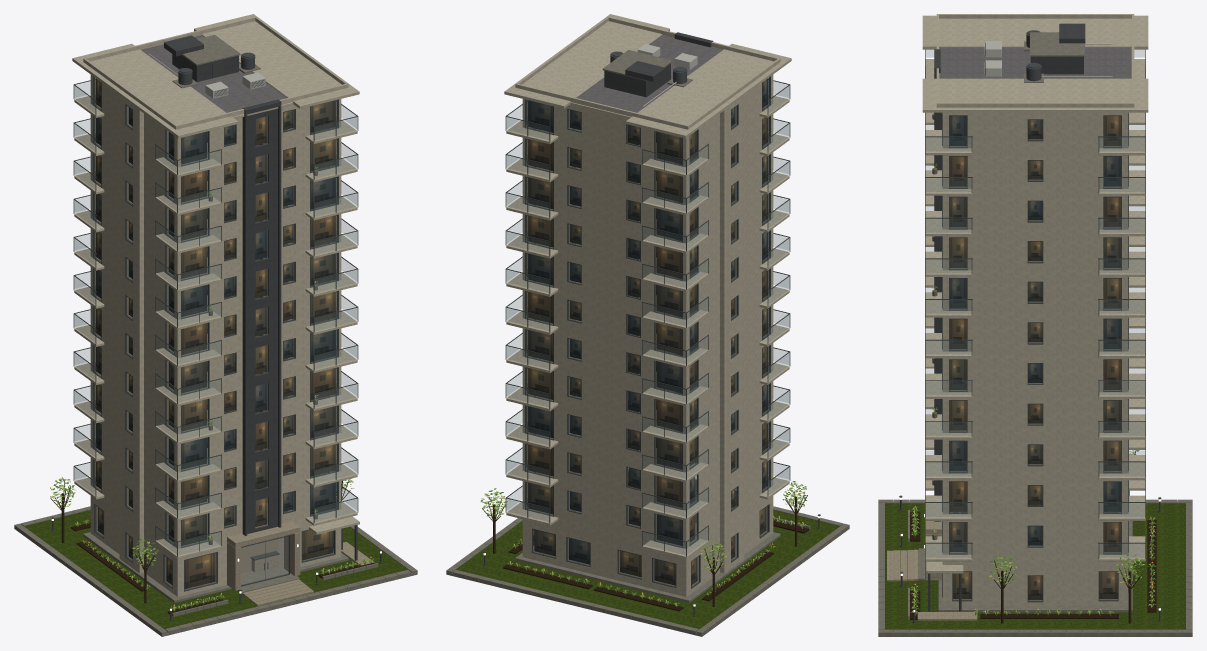
The model's file is torre_residencial.fbx.
The picture shows the model from 3 angles, left to right: view 1: azimuth 30°, elevation 25°; view 2: azimuth 150°, elevation 25°; view 3: azimuth 270°, elevation 25°; orthographic projection. The views are drawn at different scales.
Parts seen in each view (by area): view 1: Torre_12_Niveles, Areas_Exteriores; view 2: Torre_12_Niveles, Areas_Exteriores; view 3: Torre_12_Niveles, Areas_Exteriores.
Boxes of the visible parts, box(x1,y1,x2,y2) form: Torre_12_Niveles: box(72, 14, 359, 602); Areas_Exteriores: box(14, 166, 417, 636); Torre_12_Niveles: box(504, 14, 791, 602); Areas_Exteriores: box(446, 481, 849, 636); Torre_12_Niveles: box(918, 14, 1148, 612); Areas_Exteriores: box(878, 113, 1192, 636).
Size of the model in its own units: 2000 by 3731 by 2000.
Materials: 26 (14 with a texture image).
